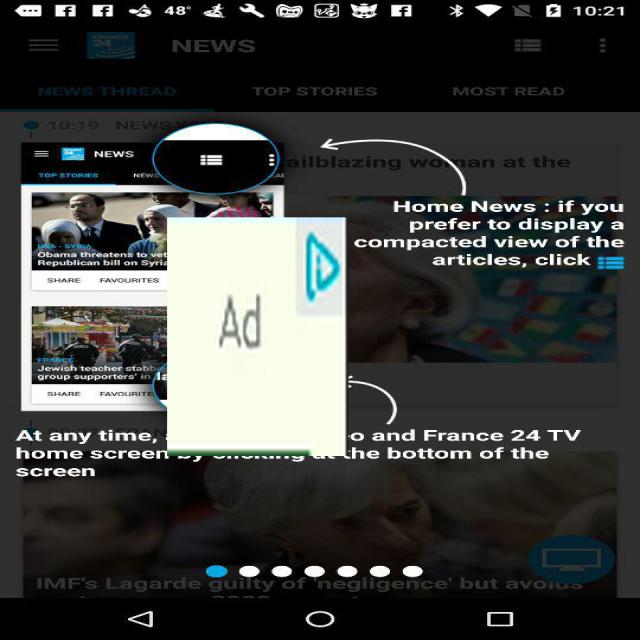sneaking: (167, 217, 349, 456)
